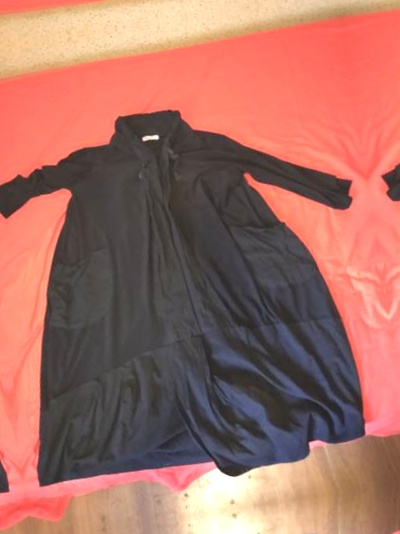Dress: (0, 74, 394, 501), (365, 11, 400, 438), (0, 133, 24, 534), (41, 523, 400, 534)
